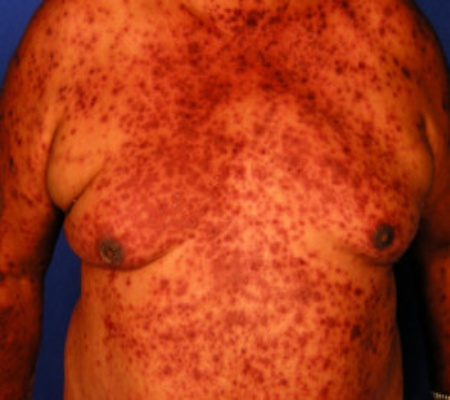SJS-TEN: (52, 0, 450, 400)
